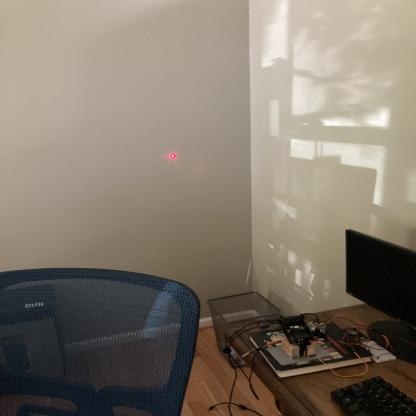target: (170, 153, 179, 160)
